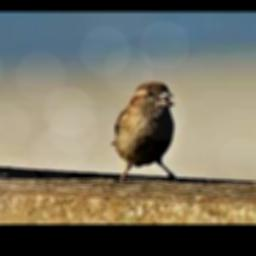Sparrow: (112, 81, 178, 181)
